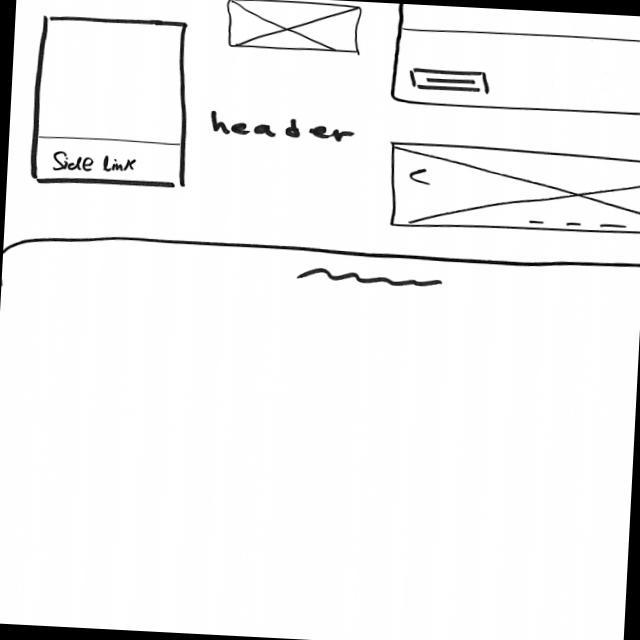container: (390, 3, 640, 118), (30, 14, 194, 189)
icon-button: (408, 66, 492, 96)
image: (385, 140, 640, 238), (222, 0, 363, 56)
label: (202, 110, 358, 144), (49, 148, 140, 175)
text: (299, 265, 445, 291)
